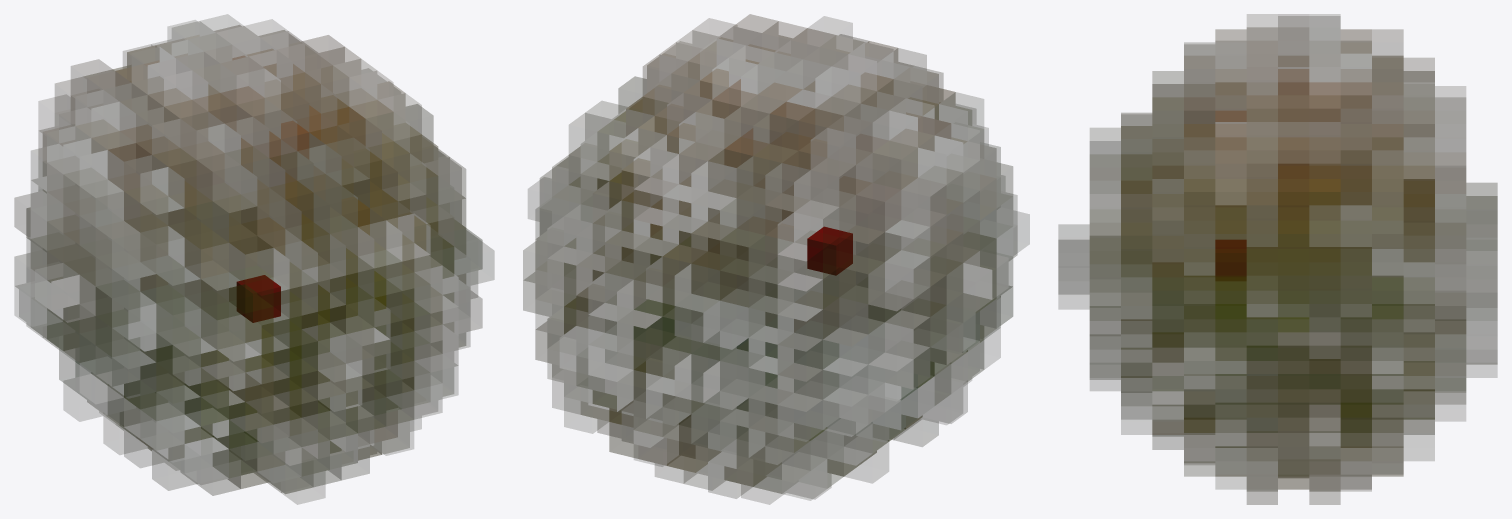
The model's file is iter_20.obj.
3 renders of one model, left to right at view 1: azimuth 30°, elevation 25°; view 2: azimuth 150°, elevation 25°; view 3: azimuth 270°, elevation 25°, orthographic. The views are drawn at different scales.
Parts seen in each view (by area): view 1: iter_20; view 2: iter_20; view 3: iter_20.
Boxes of the visible parts, left/top/right/bottom form: iter_20: left=14, top=14, right=494, bottom=504; iter_20: left=523, top=14, right=1029, bottom=504; iter_20: left=1058, top=14, right=1497, bottom=504.
Size of the model in its own units: 1.5 by 1.4 by 1.4.
